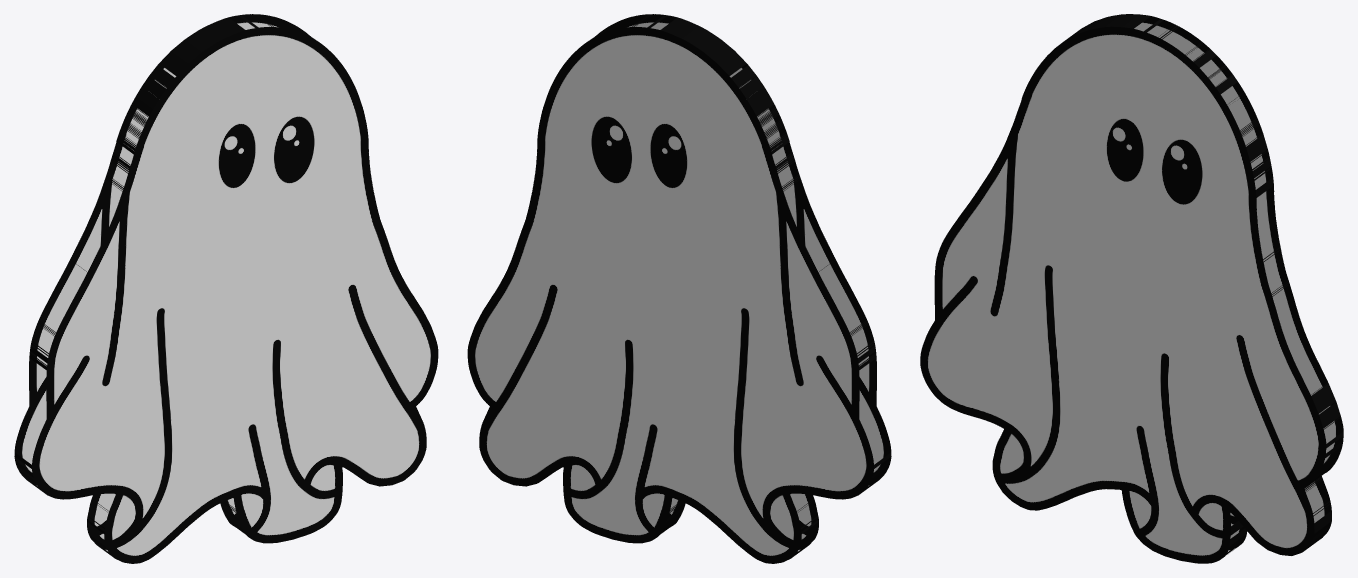
Rendered from Ghost.fbx.
3 renders of one model, left to right at view 1: azimuth 30°, elevation 25°; view 2: azimuth 150°, elevation 25°; view 3: azimuth 330°, elevation 25°, orthographic.
Parts seen in each view (by area): view 1: Ghost; view 2: Ghost; view 3: Ghost.
Boxes of the visible parts, x1,y1,x2,y2 form: Ghost: [14, 14, 438, 563]; Ghost: [467, 14, 891, 563]; Ghost: [920, 14, 1343, 563].
Size of the model in its own units: 386 by 473 by 28.7.
